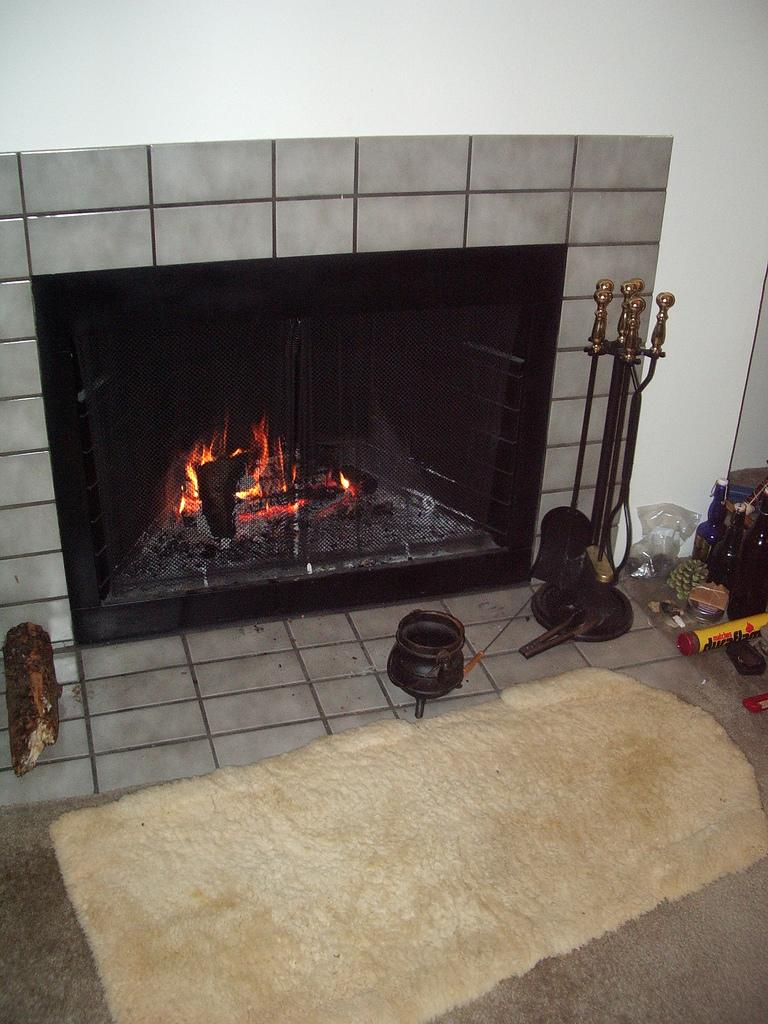fire: (182, 428, 328, 500)
